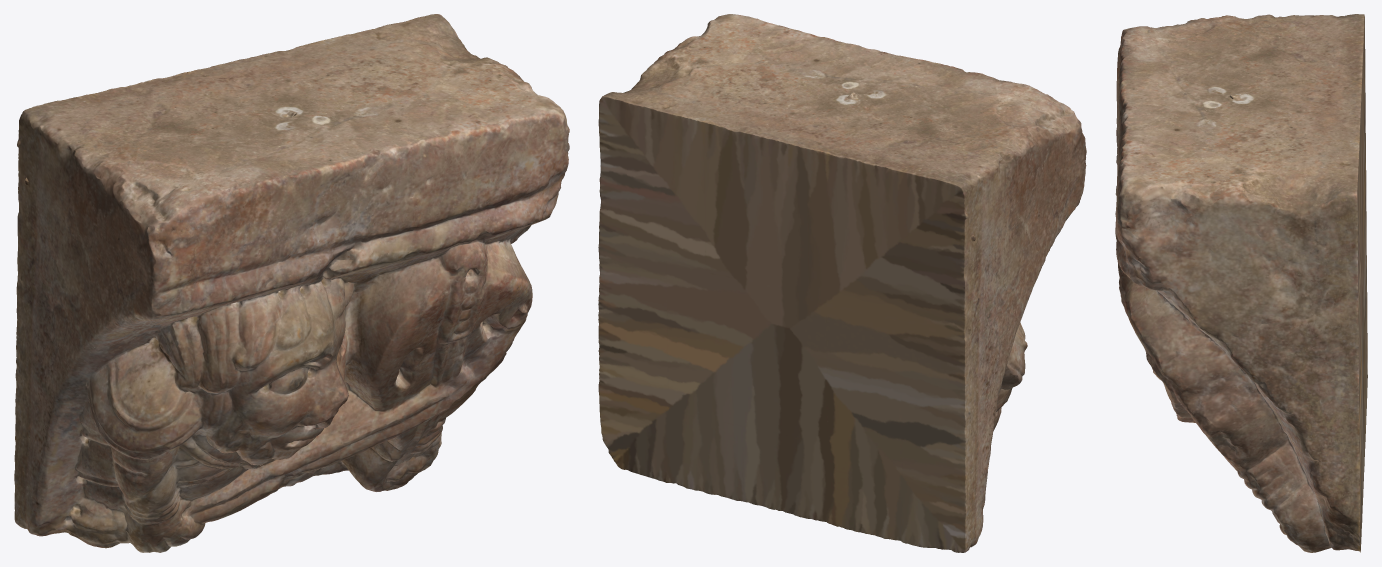
The model's file is corbel_25_120_602.glb.
3 renders of one model, left to right at view 1: azimuth 30°, elevation 25°; view 2: azimuth 150°, elevation 25°; view 3: azimuth 270°, elevation 25°, orthographic. The views are drawn at different scales.
Parts seen in each view (by area): view 1: ADVIMG_25_120_602_Corble_n3d; view 2: ADVIMG_25_120_602_Corble_n3d; view 3: ADVIMG_25_120_602_Corble_n3d.
Boxes of the visible parts, x1=… form: ADVIMG_25_120_602_Corble_n3d: x1=14, y1=14, x2=569, y2=552; ADVIMG_25_120_602_Corble_n3d: x1=598, y1=14, x2=1086, y2=552; ADVIMG_25_120_602_Corble_n3d: x1=1115, y1=14, x2=1367, y2=552.
Bounding box in the file's own units: 0.16 × 0.1588 × 0.0929.
1 material, 1 textured.
